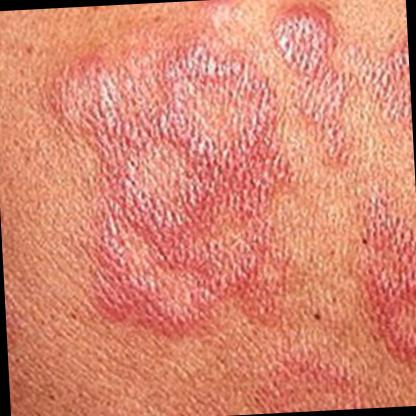Leprosy: (52, 40, 291, 350), (273, 191, 416, 412), (265, 0, 413, 183)
